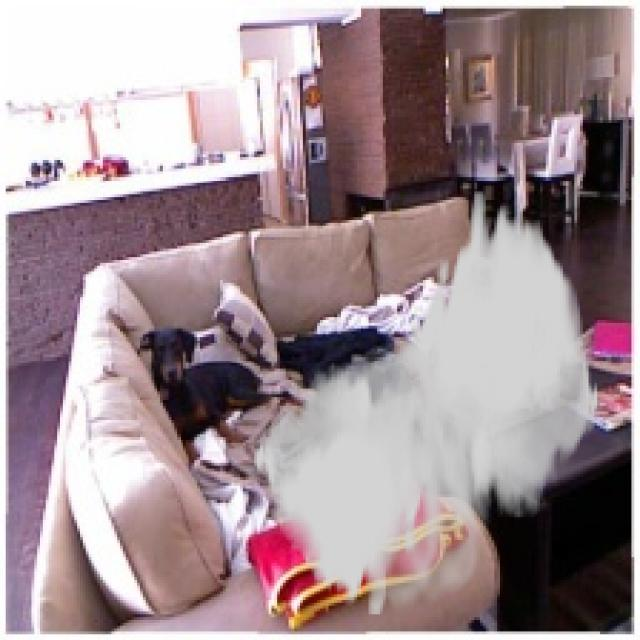smoke: (251, 192, 600, 617)
